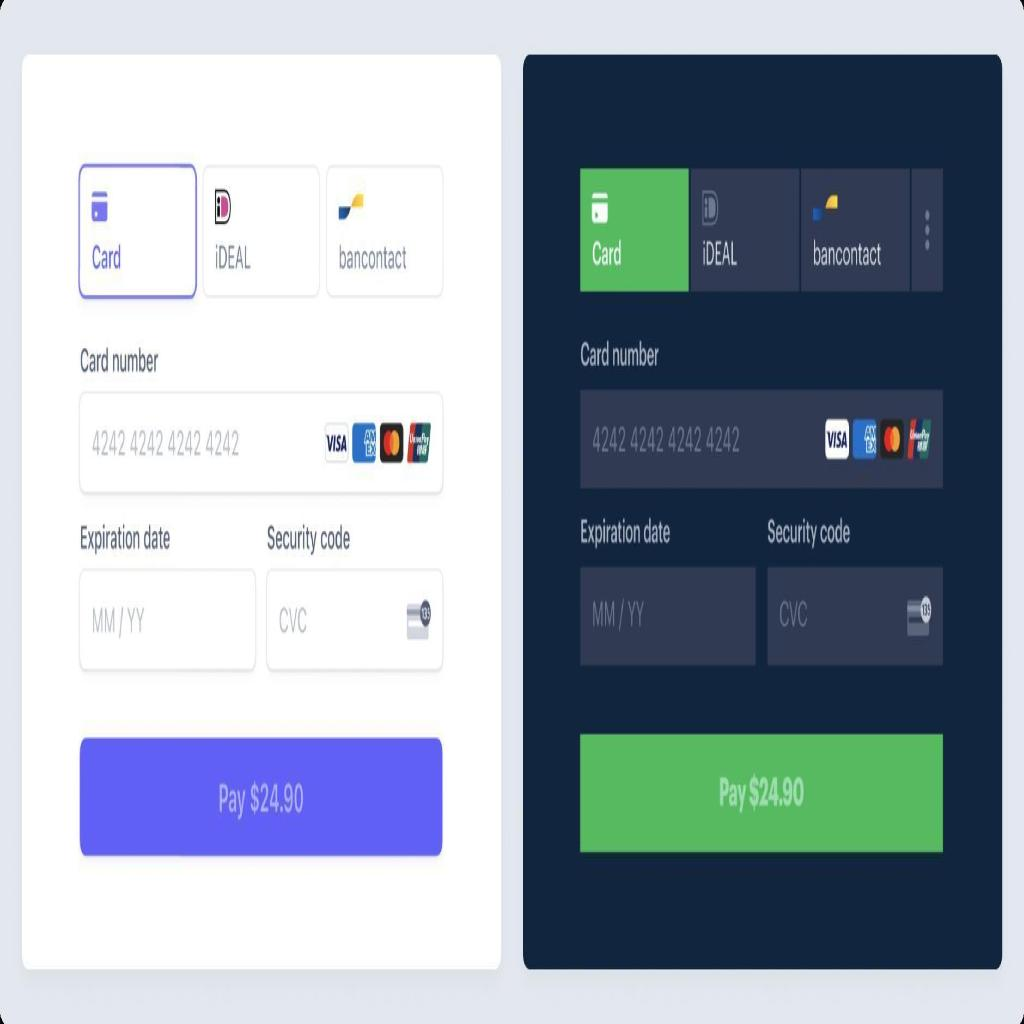button: (579, 734, 943, 854), (80, 736, 442, 855), (324, 165, 446, 295), (204, 165, 321, 298), (80, 166, 196, 300), (801, 162, 914, 299), (578, 162, 690, 298), (690, 162, 798, 291)
icon: (922, 198, 933, 266)
input: (80, 390, 442, 496), (578, 389, 944, 490), (76, 562, 257, 680), (266, 561, 444, 676), (577, 561, 757, 669), (766, 560, 946, 662)
label: (580, 510, 672, 552), (266, 514, 350, 556), (768, 510, 851, 552), (79, 336, 160, 379), (581, 333, 659, 377), (78, 522, 170, 556)
